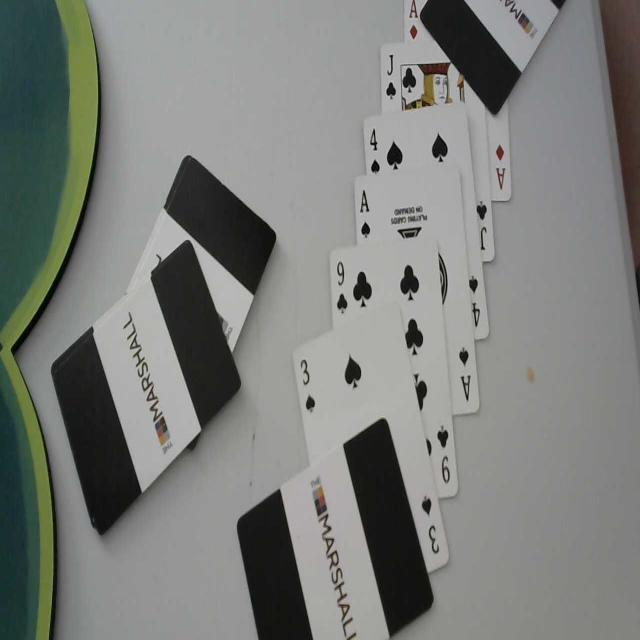3S: (419, 489, 442, 562), (300, 354, 318, 418)
4S: (467, 274, 481, 330), (370, 124, 382, 178)
9C: (332, 257, 350, 317), (435, 417, 451, 483)
AD: (492, 141, 508, 191), (408, 0, 422, 41)
AS: (455, 343, 473, 406), (359, 188, 371, 239)
JC: (384, 50, 399, 103), (475, 198, 489, 252)
